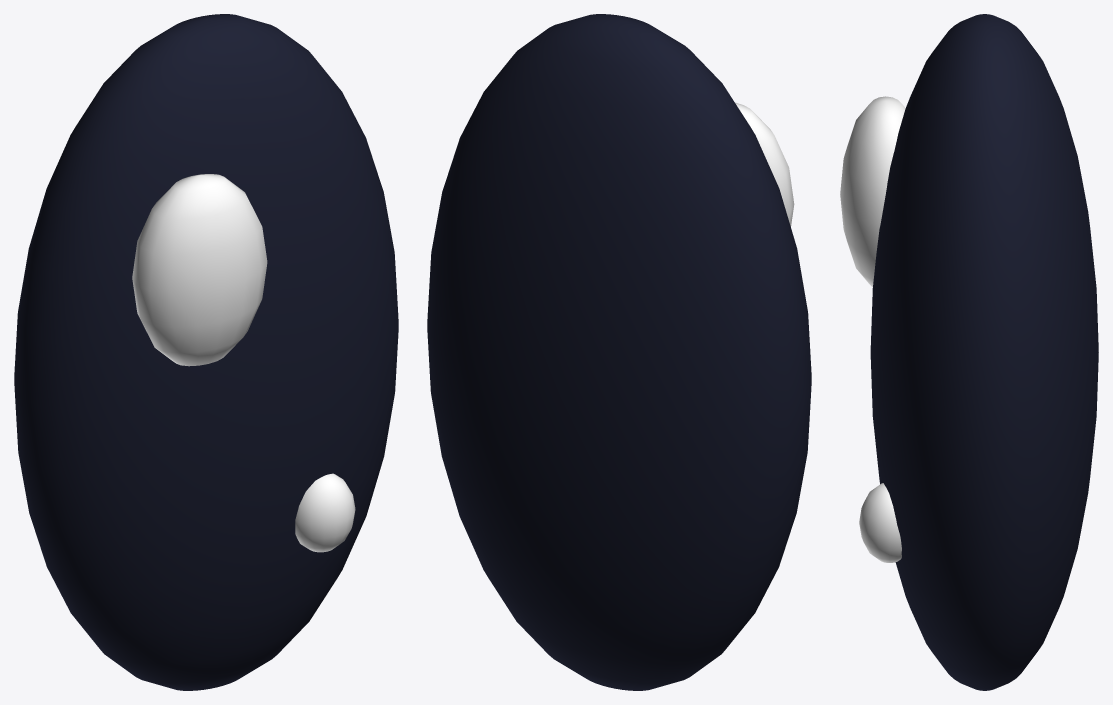
File: SM_BlobEye.fbx
3 renders of one model, left to right at view 1: azimuth 30°, elevation 25°; view 2: azimuth 150°, elevation 25°; view 3: azimuth 270°, elevation 25°, orthographic.
Visible parts, largest first — view 1: SM_BlobEye; view 2: SM_BlobEye; view 3: SM_BlobEye.
Part boxes in pixels (bbox=[...]): SM_BlobEye: bbox=[14, 14, 398, 690]; SM_BlobEye: bbox=[427, 14, 811, 690]; SM_BlobEye: bbox=[840, 14, 1098, 690].
Bounding box in the file's own units: 0.11 × 0.19 × 0.068.
